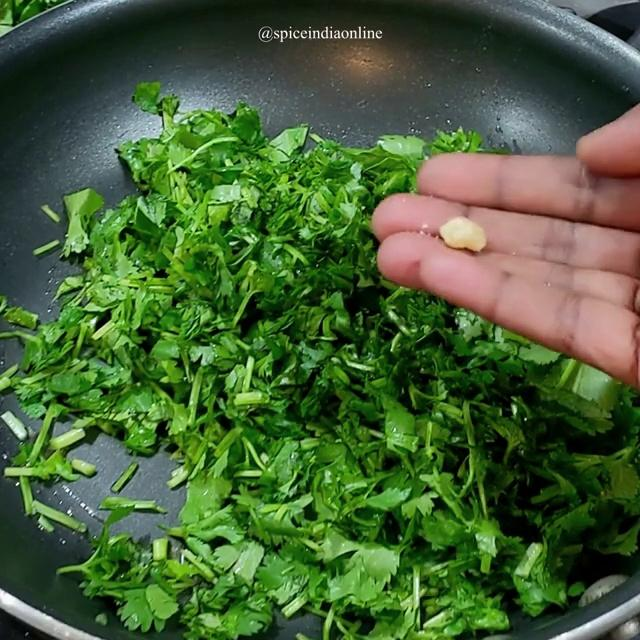cilantro: (100, 139, 386, 601)
